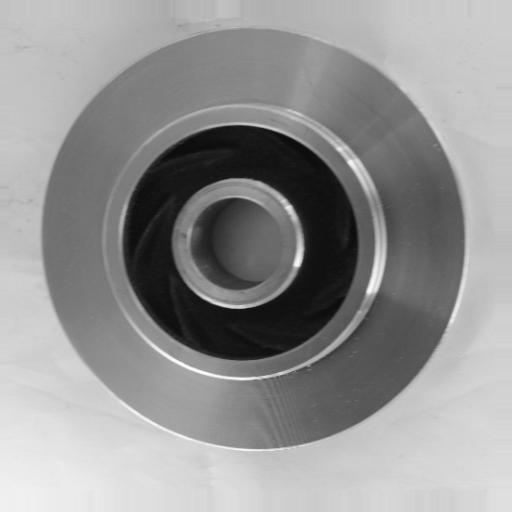polished_casting: (40, 28, 466, 450)
